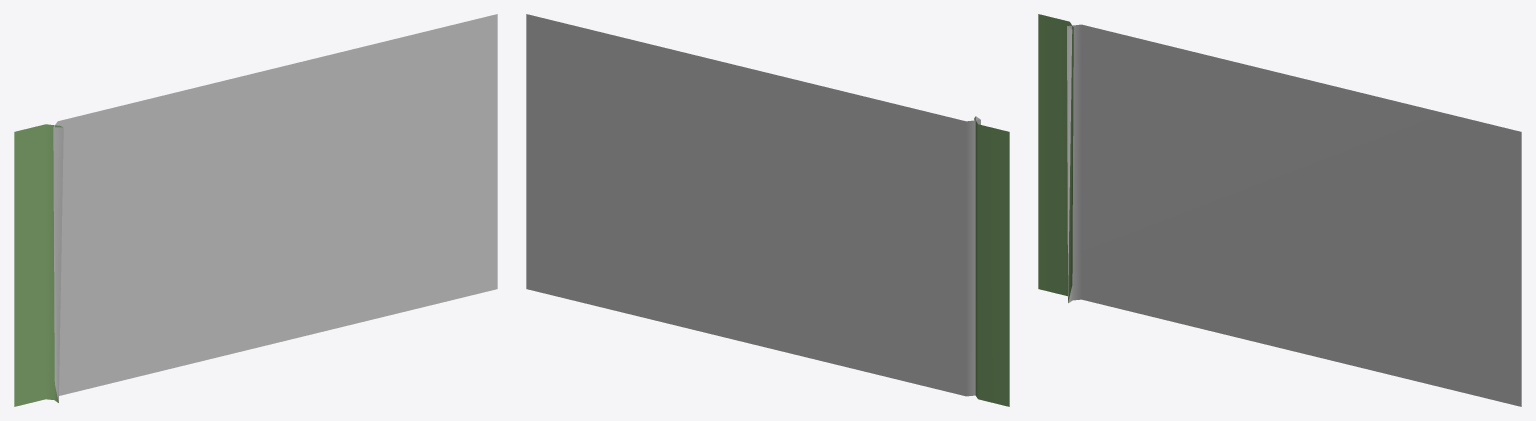
3 renders of one model, left to right at view 1: azimuth 30°, elevation 25°; view 2: azimuth 150°, elevation 25°; view 3: azimuth 330°, elevation 25°, orthographic.
Visible parts, largest first — view 1: A3F0C6A34C03808751593581B4DCF172; view 2: A3F0C6A34C03808751593581B4DCF172; view 3: A3F0C6A34C03808751593581B4DCF172.
Boxes of the visible parts, bbox=[...] form: A3F0C6A34C03808751593581B4DCF172: bbox=[14, 14, 497, 406]; A3F0C6A34C03808751593581B4DCF172: bbox=[526, 14, 1009, 406]; A3F0C6A34C03808751593581B4DCF172: bbox=[1038, 14, 1521, 406].
Size of the model in its own units: 0.4009 by 14.39 by 7.83.
